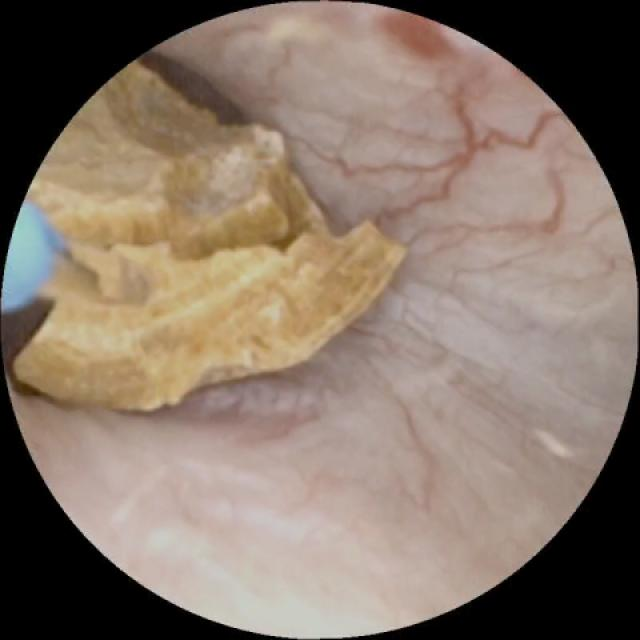fiber: (4, 207, 51, 307)
stone: (15, 67, 400, 410)
